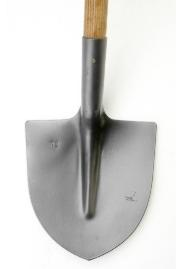PELLE: (10, 0, 165, 269)
